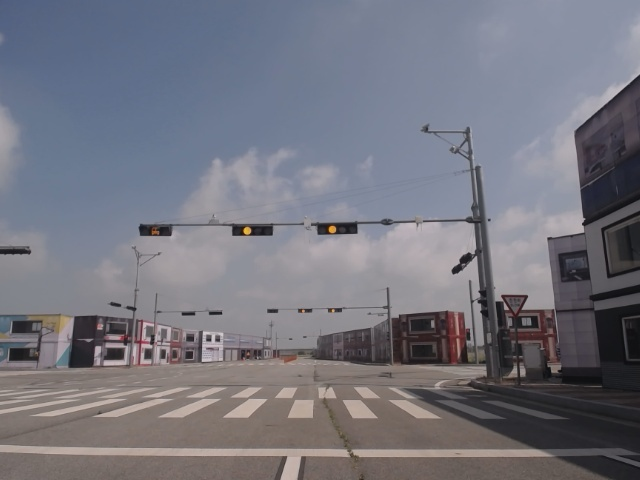orange_4: (231, 225, 274, 236), (318, 223, 357, 235)
